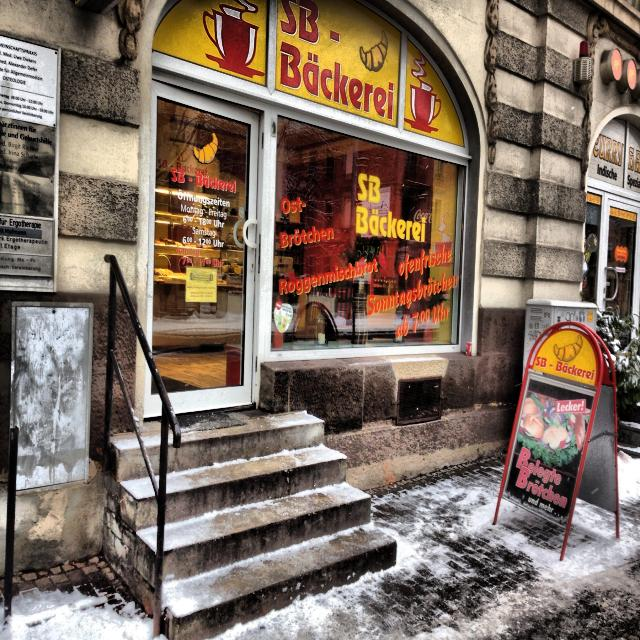escada: (108, 419, 398, 639)
